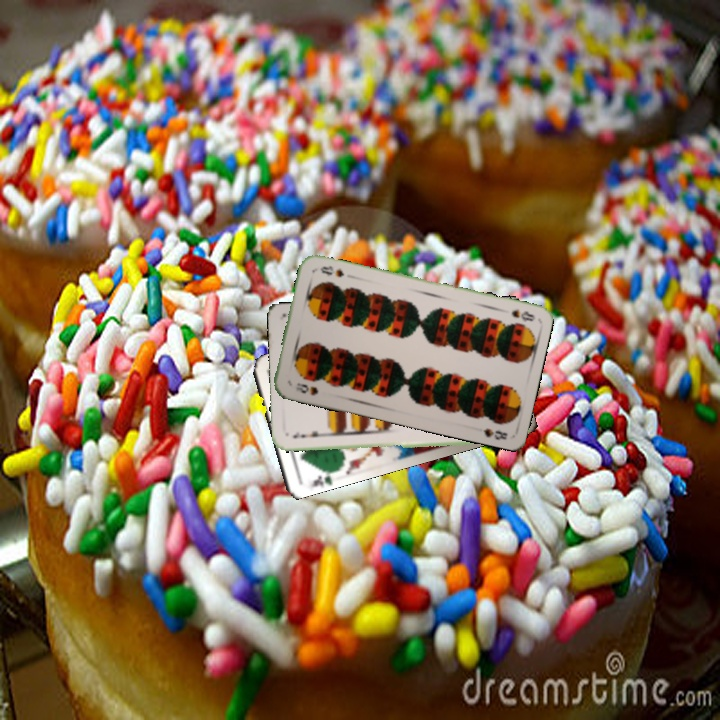E7: (289, 427, 326, 440)
GK: (307, 466, 337, 489)
S8: (507, 305, 537, 324), (292, 379, 321, 398)
